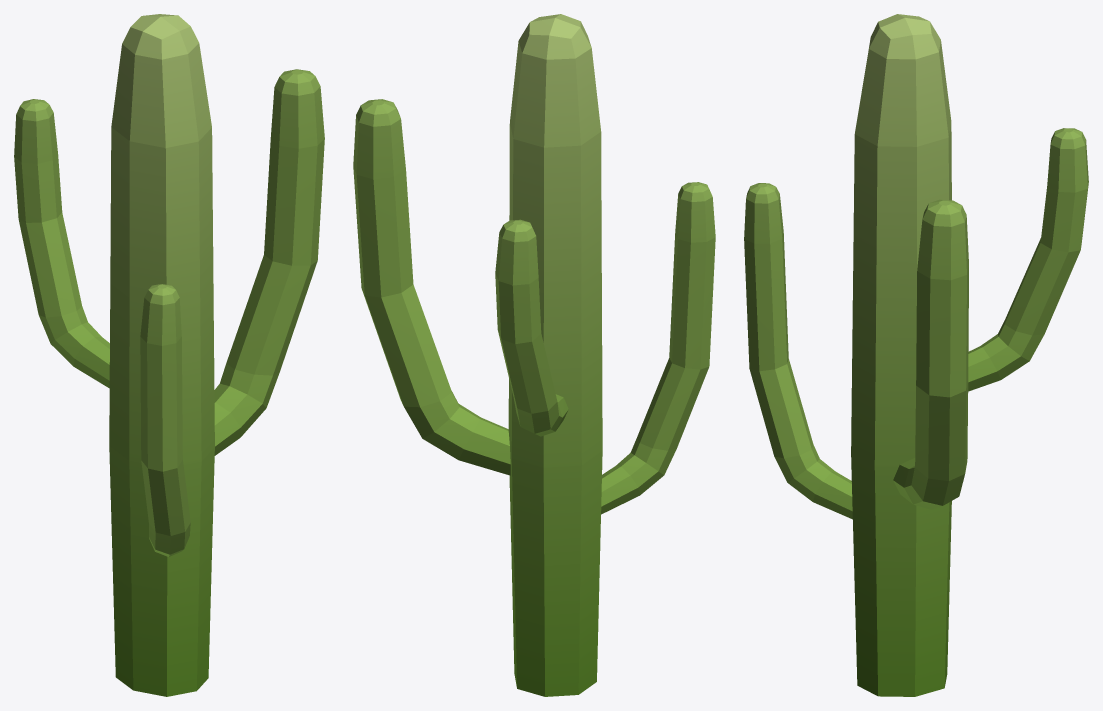
File: cactus 6.fbx
3 renders of one model, left to right at view 1: azimuth 30°, elevation 25°; view 2: azimuth 150°, elevation 25°; view 3: azimuth 270°, elevation 25°, orthographic.
Parts seen in each view (by area): view 1: cactus 6; view 2: cactus 6; view 3: cactus 6.
Boxes of the visible parts, x1,y1,x2,y2 form: cactus 6: (14, 14, 324, 696); cactus 6: (353, 14, 715, 696); cactus 6: (744, 14, 1088, 696).
Bounding box in the file's own units: 109 × 258 × 122.
